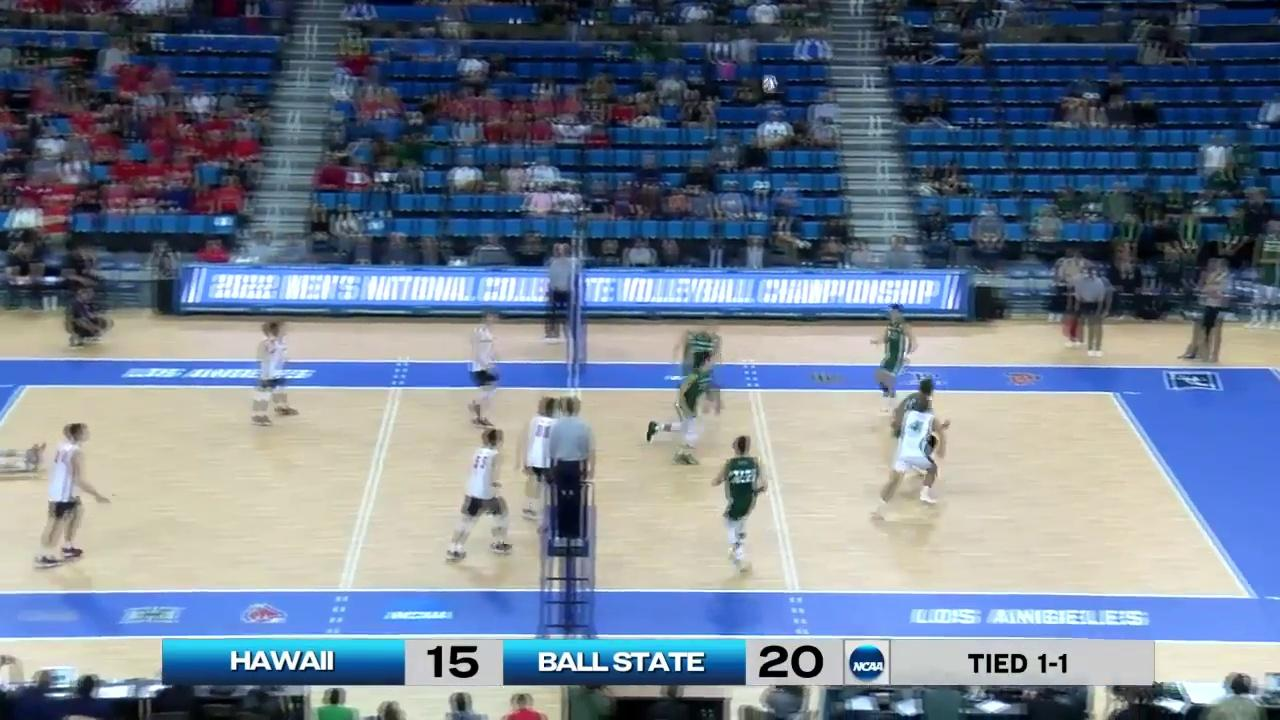player: (439, 423, 512, 564), (34, 421, 105, 564), (648, 354, 718, 471), (870, 399, 935, 522), (712, 439, 765, 573), (669, 315, 724, 420), (523, 396, 569, 520), (456, 312, 502, 432), (893, 377, 945, 478), (871, 302, 916, 414), (255, 320, 299, 424)
refree: (541, 396, 597, 534), (1066, 269, 1109, 358), (545, 243, 577, 341)
